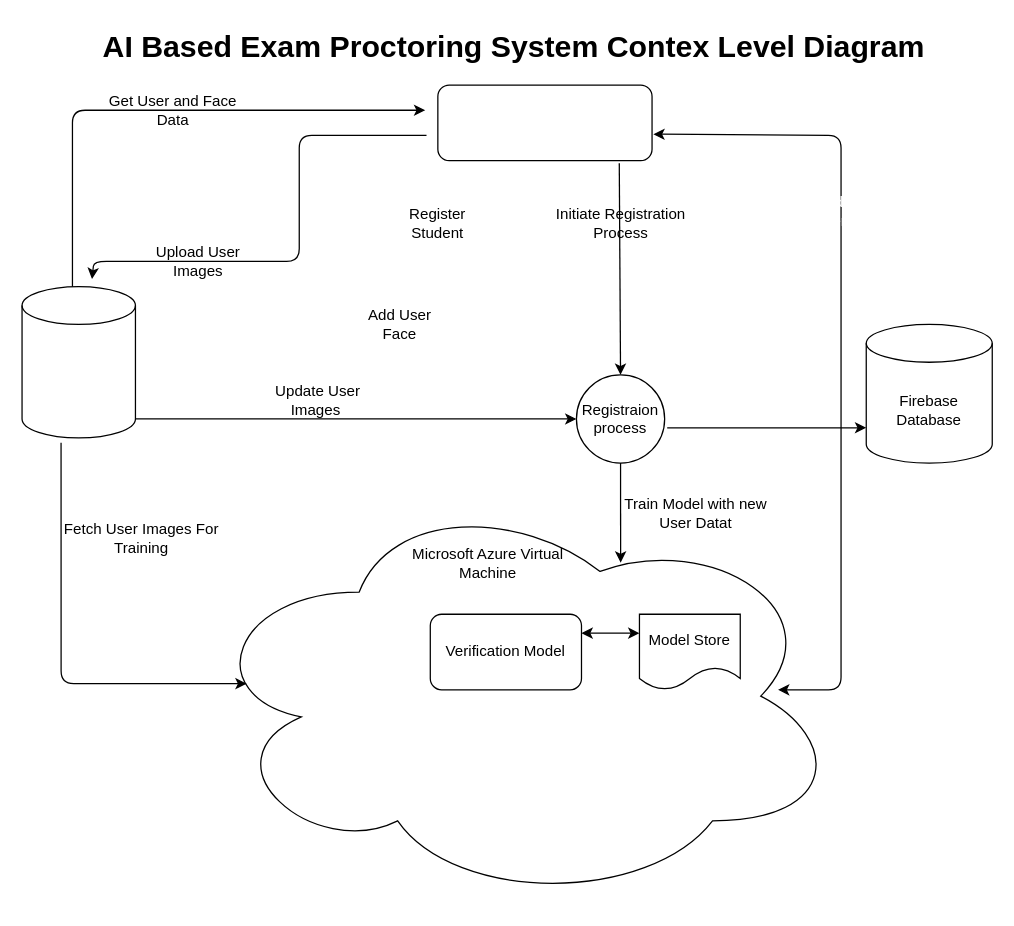
The diagram is 1014 pixels wide and 926 high, and some of its shapes have lost their labels. The shapes that lost their labels are listed below. From the top down, each one's box as (x1, y1, x2, y2) in pixels, then its label:
(437, 84, 652, 161): Clienet Browser
(21, 285, 135, 438): Firebase File Storage
